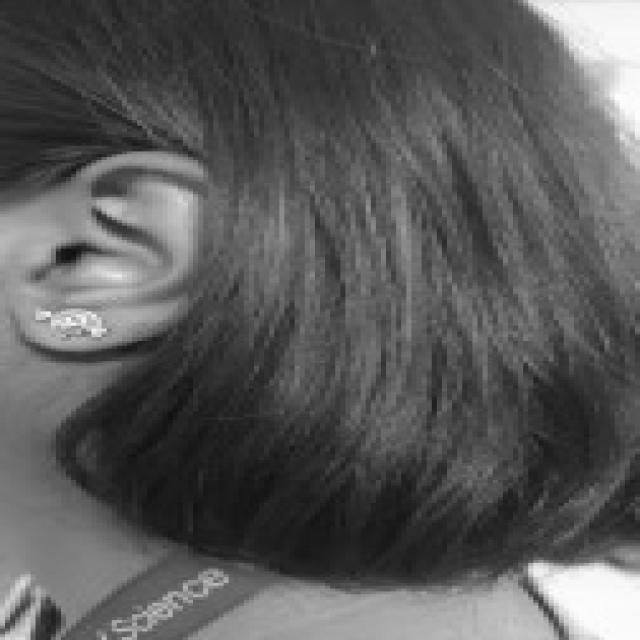ear: (0, 151, 208, 346)
